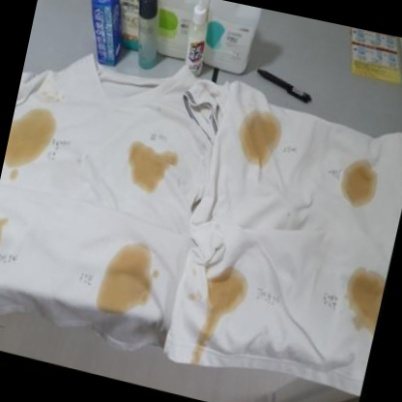coffee: (104, 248, 149, 311), (235, 109, 285, 164), (5, 110, 52, 167), (350, 272, 387, 322), (208, 271, 244, 314), (343, 162, 378, 204), (130, 146, 166, 186), (0, 220, 3, 252)
